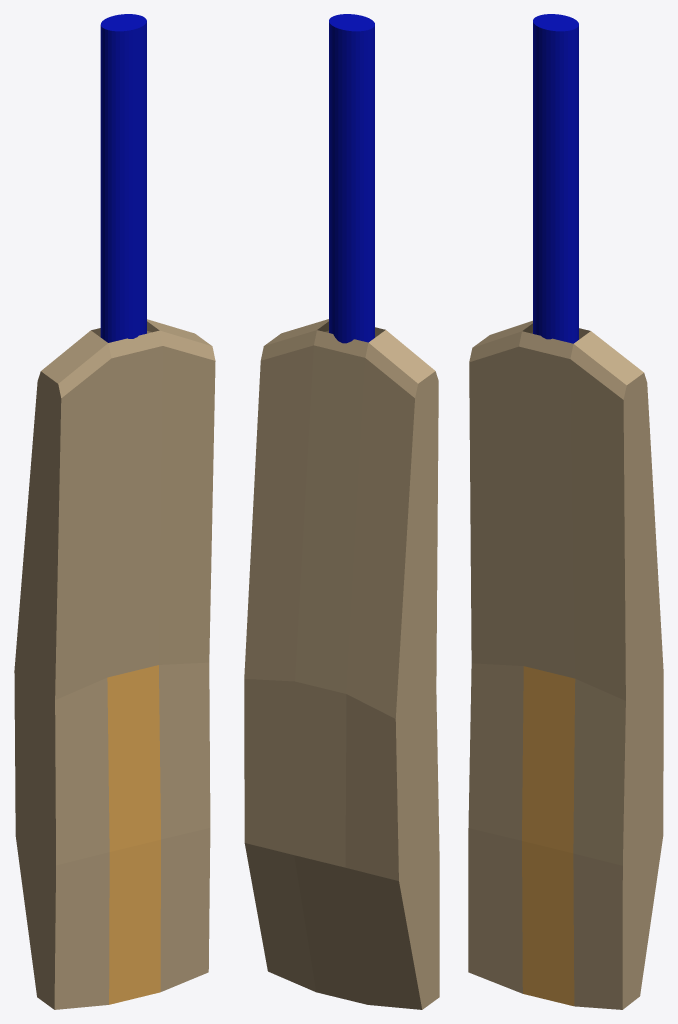
File: bat.fbx
3 renders of one model, left to right at view 1: azimuth 30°, elevation 25°; view 2: azimuth 150°, elevation 25°; view 3: azimuth 330°, elevation 25°, orthographic.
Parts seen in each view (by area): view 1: Cube; view 2: Cube; view 3: Cube.
Boxes of the visible parts, box(x1,y1,x2,y2) form: Cube: box(14, 14, 215, 1009); Cube: box(244, 14, 439, 1009); Cube: box(468, 14, 663, 1009).
Bounding box in the file's own units: 394 × 2310 × 195.
